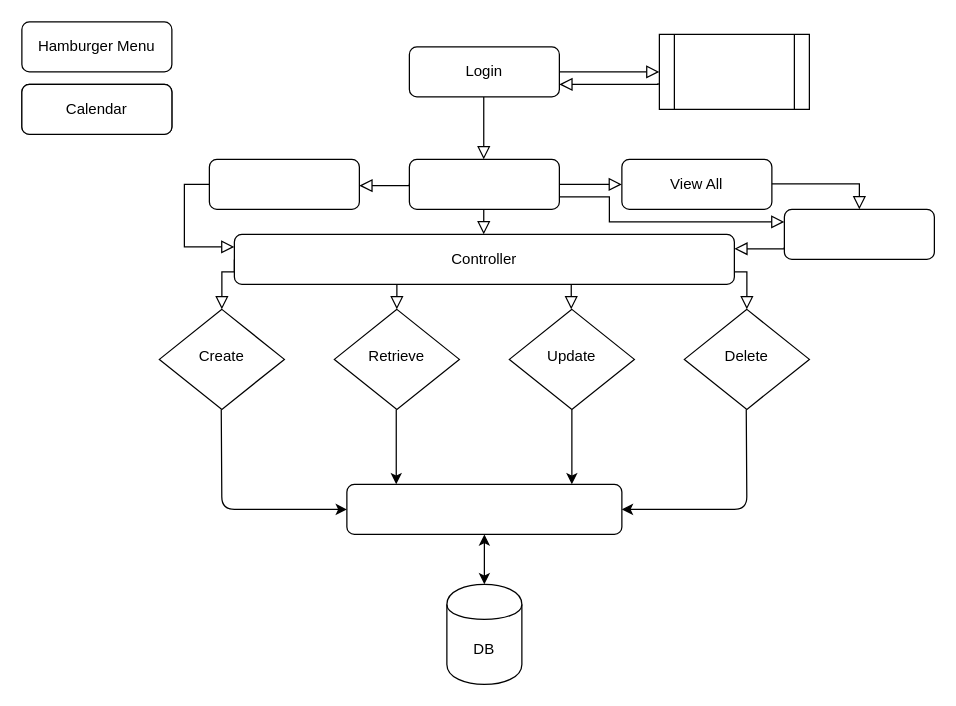
This 956x706 diagram has some shape labels left out. Each missing label, with the box of its shape:
Auth0: (658, 33, 809, 109)
Issue Creation: (208, 158, 359, 209)
Issue Page: (783, 208, 934, 259)
Landing Page View: (408, 158, 559, 209)
Model: (346, 483, 622, 534)
